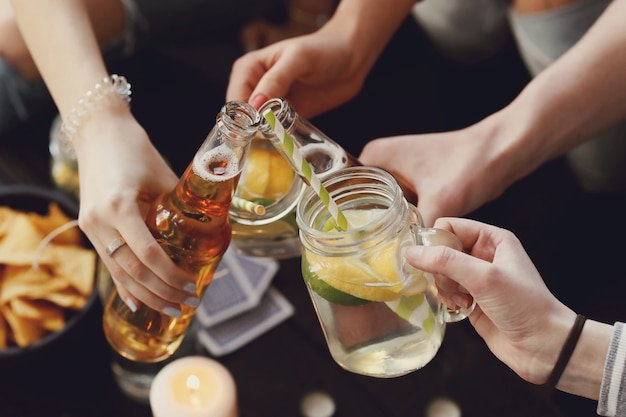alcohol: (254, 97, 474, 313), (99, 102, 260, 364), (295, 169, 483, 378), (203, 124, 340, 264)
